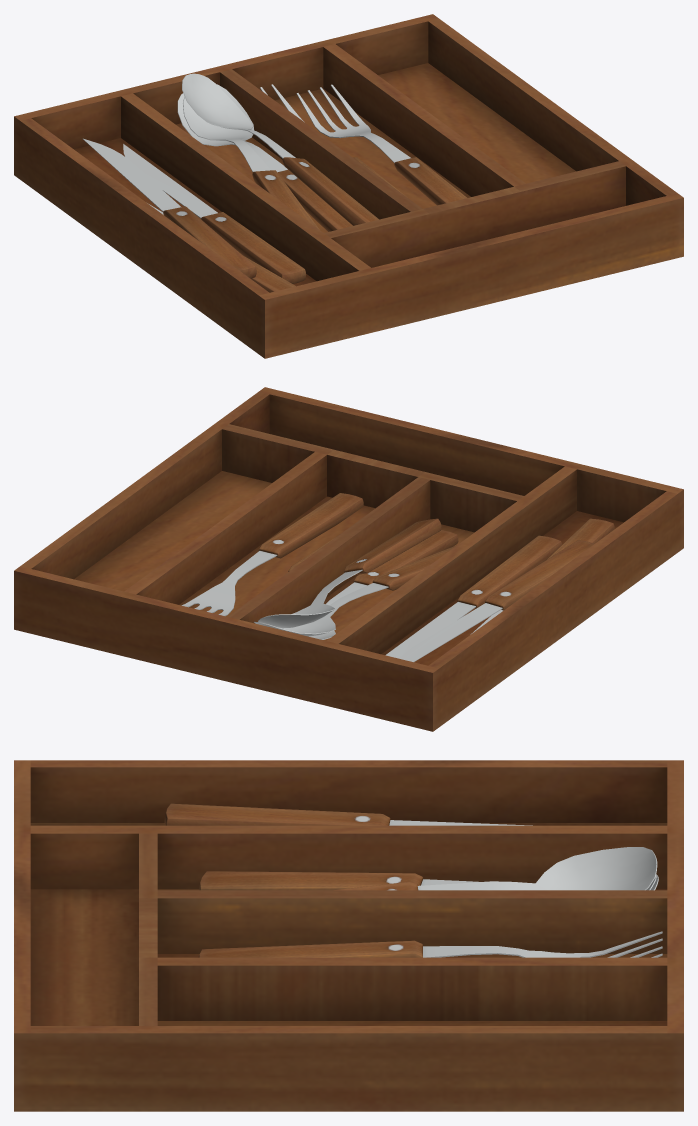
File: GardenTableWear01_6.FBX
3 views of the same model, one above another, from view 1: azimuth 30°, elevation 25°; view 2: azimuth 150°, elevation 25°; view 3: azimuth 270°, elevation 25° (orthographic). The views are drawn at different scales.
Parts seen in each view (by area): view 1: GardenTableWear01_6; view 2: GardenTableWear01_6; view 3: GardenTableWear01_6.
Part boxes in pixels (bbox=[...]): GardenTableWear01_6: bbox=[14, 14, 683, 358]; GardenTableWear01_6: bbox=[14, 387, 683, 731]; GardenTableWear01_6: bbox=[14, 760, 683, 1111].
Size of what is drawn, in the model's own units: 0.4042 by 0.0641 by 0.4192.
